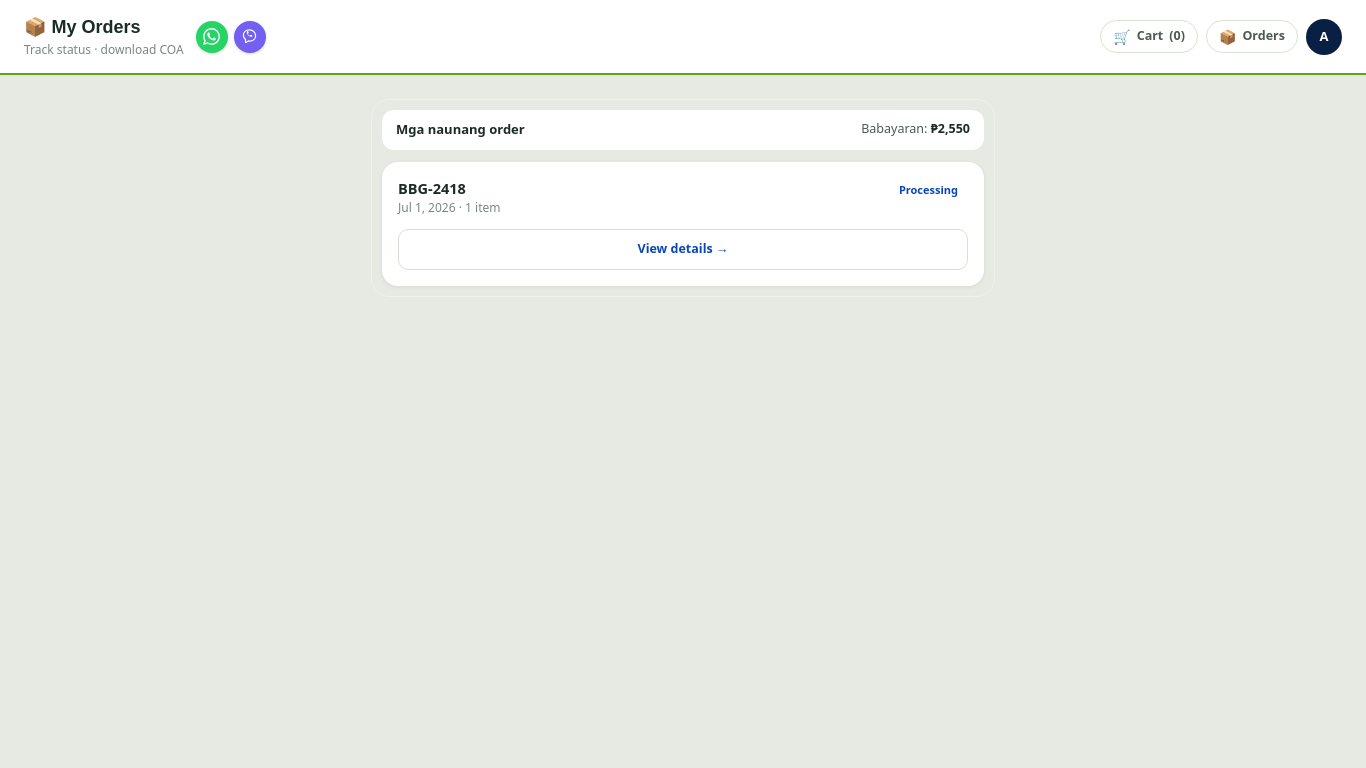
packing fee status on a hatian order › says the payment is under review, not settled, while the proof is unverified
Click the text "BBG-2418". click: [432, 188]
box: [398,178,466,198]
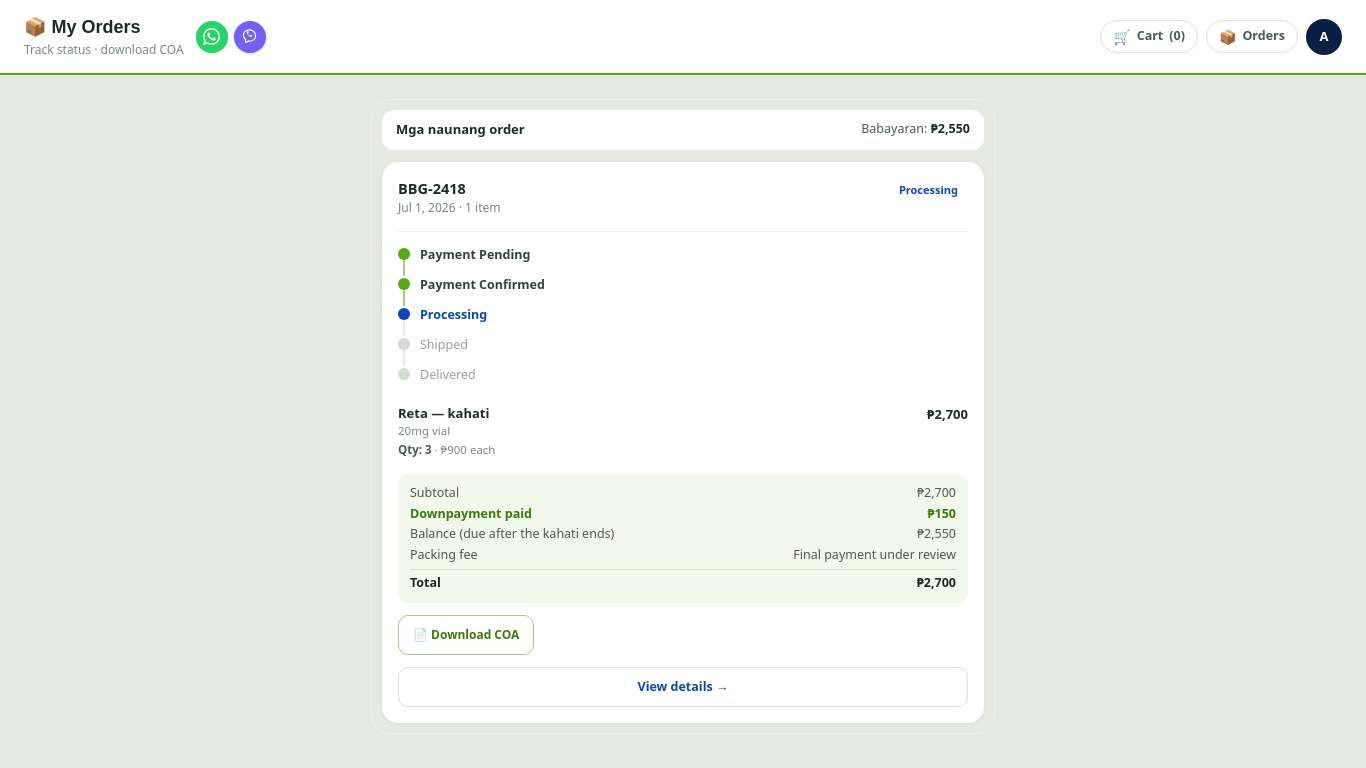
Expected: the text with test id "packing-fee-BBG-2418" does not show "Settled", [793,546,956,565]
Result: the text with test id "packing-fee-BBG-2418" shows "under review" at [793,546,956,563]
